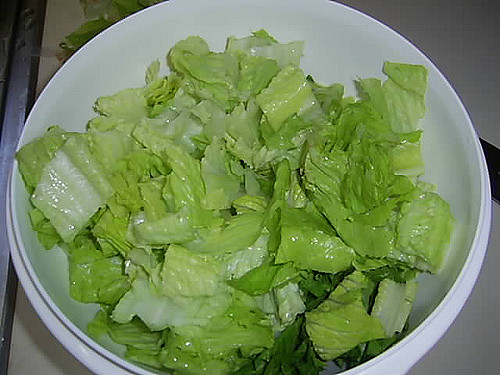chopped lettuce: (94, 102, 412, 332)
